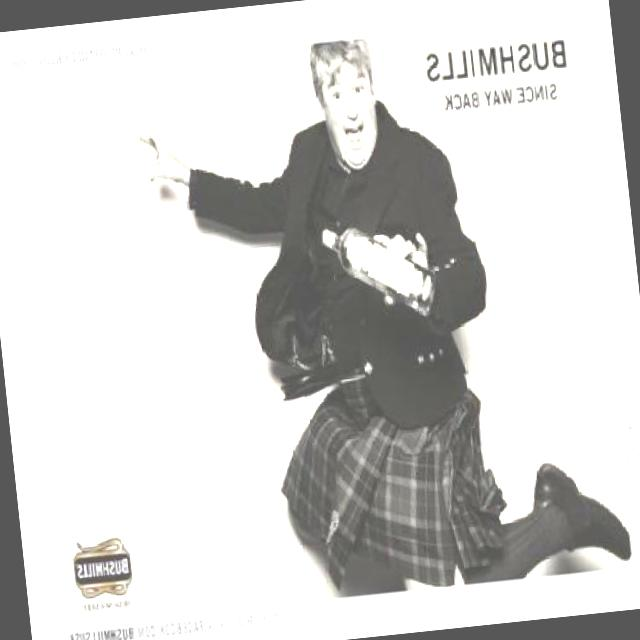Person: (131, 14, 631, 613)
